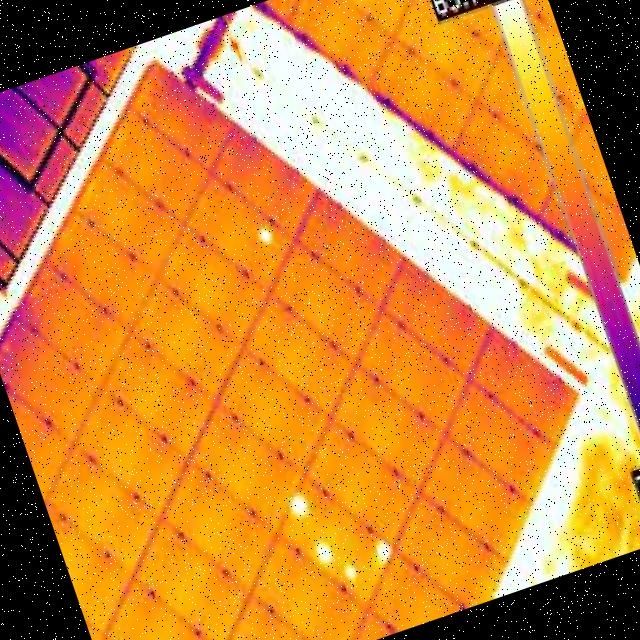Hotspot: (280, 488, 314, 522), (370, 536, 398, 566), (339, 556, 363, 583), (314, 538, 334, 566), (255, 222, 276, 246)
